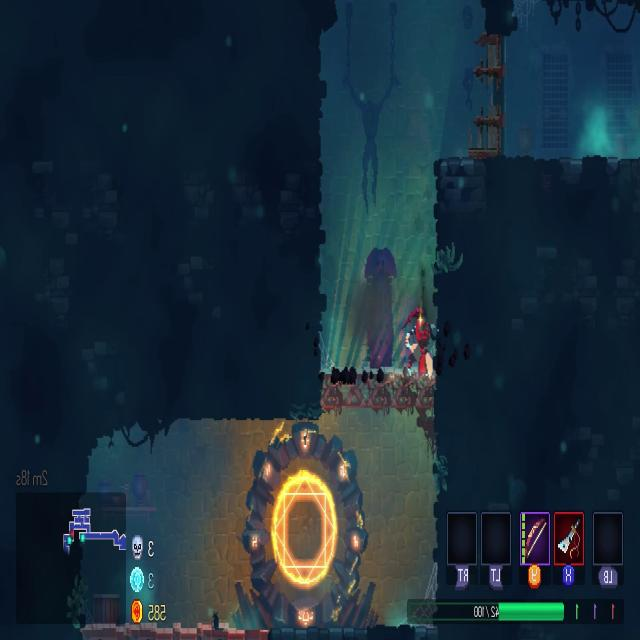agents: (404, 306, 434, 378)
wood_floor: (318, 370, 436, 417)
